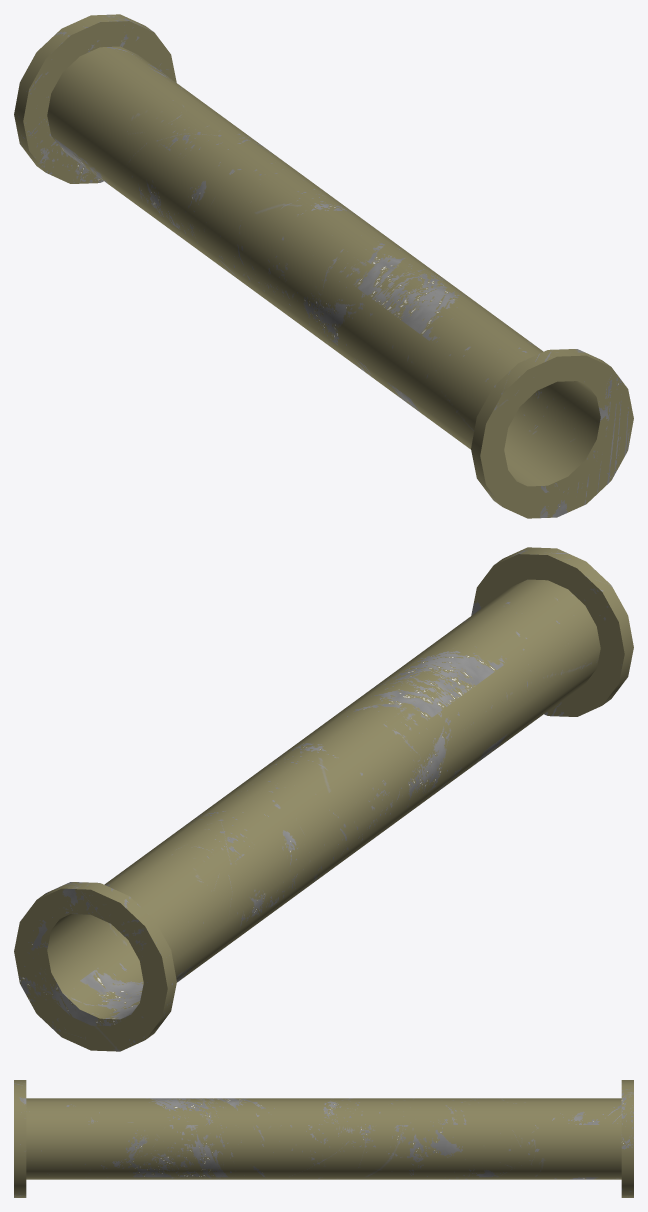
The model's file is Sewer_big pipe 01.fbx.
3 views of the same model, one above another, from view 1: azimuth 30°, elevation 25°; view 2: azimuth 150°, elevation 25°; view 3: azimuth 270°, elevation 25° (orthographic). The views are drawn at different scales.
Visible parts, largest first — view 1: Sewer_big pipe 01; view 2: Sewer_big pipe 01; view 3: Sewer_big pipe 01.
Boxes of the visible parts, x1,y1,x2,y2 form: Sewer_big pipe 01: [14, 14, 633, 518]; Sewer_big pipe 01: [14, 547, 633, 1051]; Sewer_big pipe 01: [14, 1080, 633, 1197].
Size of the model in its own units: 0.3847 by 0.3847 by 2.02.
